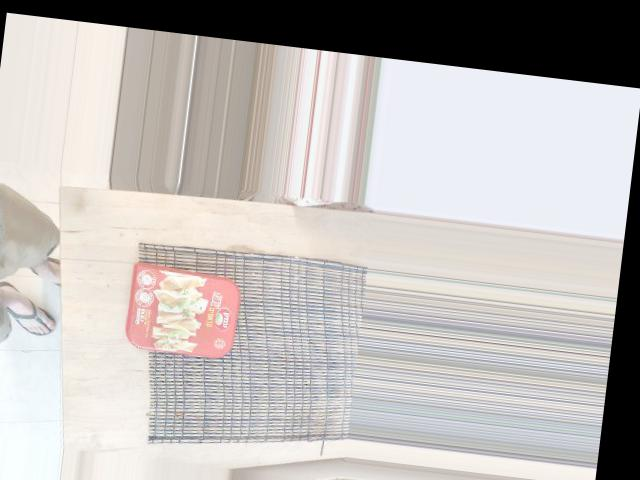cheese: (75, 242, 253, 366)
